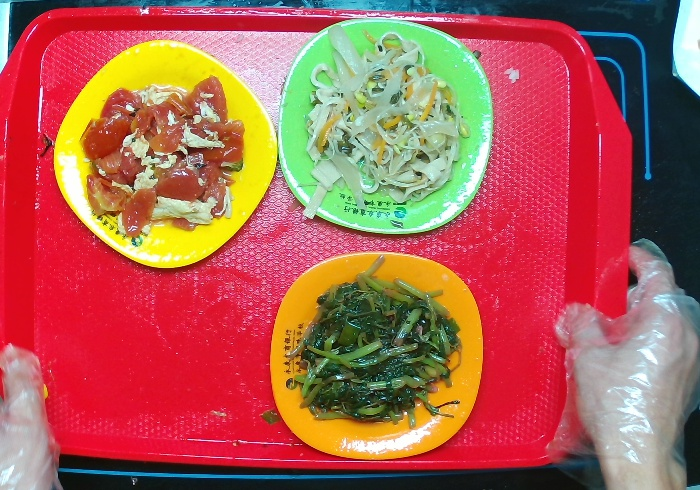YKMZ-Huang_Se_Fang_Die: (51, 38, 283, 270)
YKMZ-Ju_Se_Fang_Die: (262, 247, 491, 463)
YKMZ-Lv_Se_Fang_Die: (271, 13, 497, 244)
